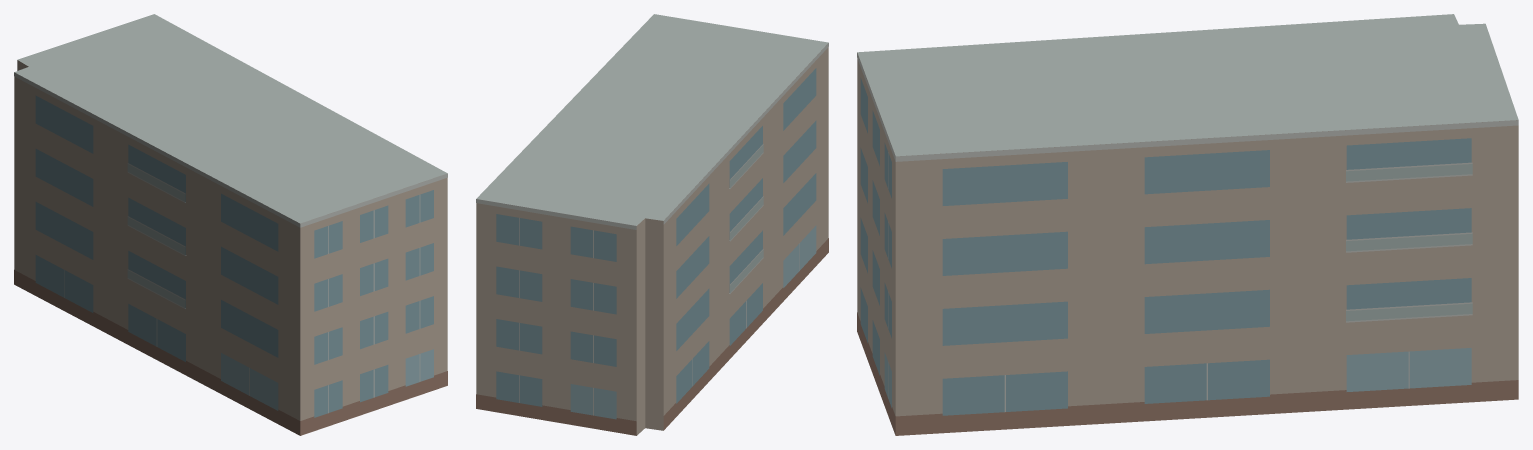
The model's file is survey-upis-32576746.glb.
3 renders of one model, left to right at view 1: azimuth 30°, elevation 25°; view 2: azimuth 150°, elevation 25°; view 3: azimuth 270°, elevation 25°, orthographic. The views are drawn at different scales.
Parts seen in each view (by area): view 1: survey-upis-32576746.tmp; view 2: survey-upis-32576746.tmp; view 3: survey-upis-32576746.tmp.
Part boxes in pixels (x1=…): survey-upis-32576746.tmp: x1=14, y1=14, x2=447, y2=435; survey-upis-32576746.tmp: x1=476, y1=14, x2=828, y2=435; survey-upis-32576746.tmp: x1=857, y1=14, x2=1518, y2=435.
Size of the model in its own units: 13.56 by 12.4 by 26.61.
